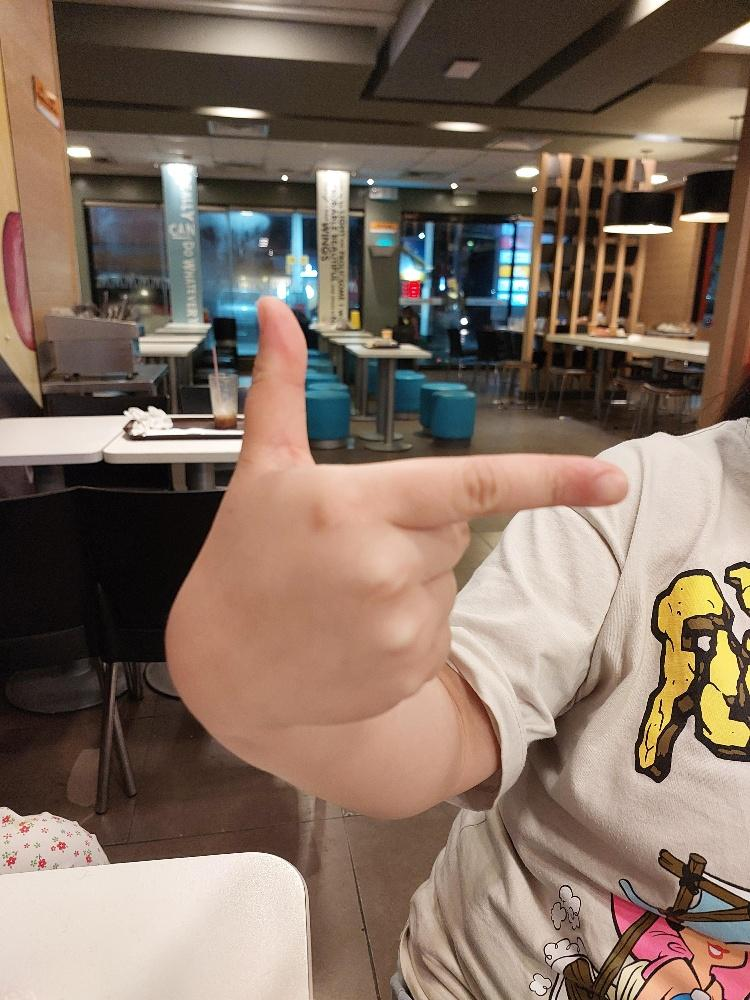g: (162, 293, 630, 725)
